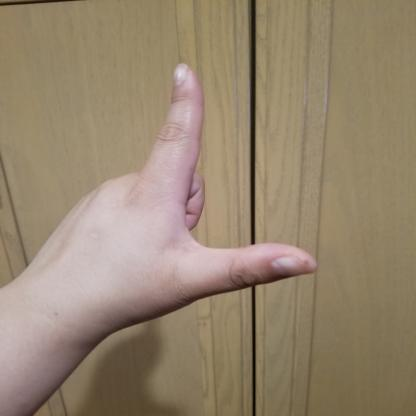L: (13, 58, 324, 340)
